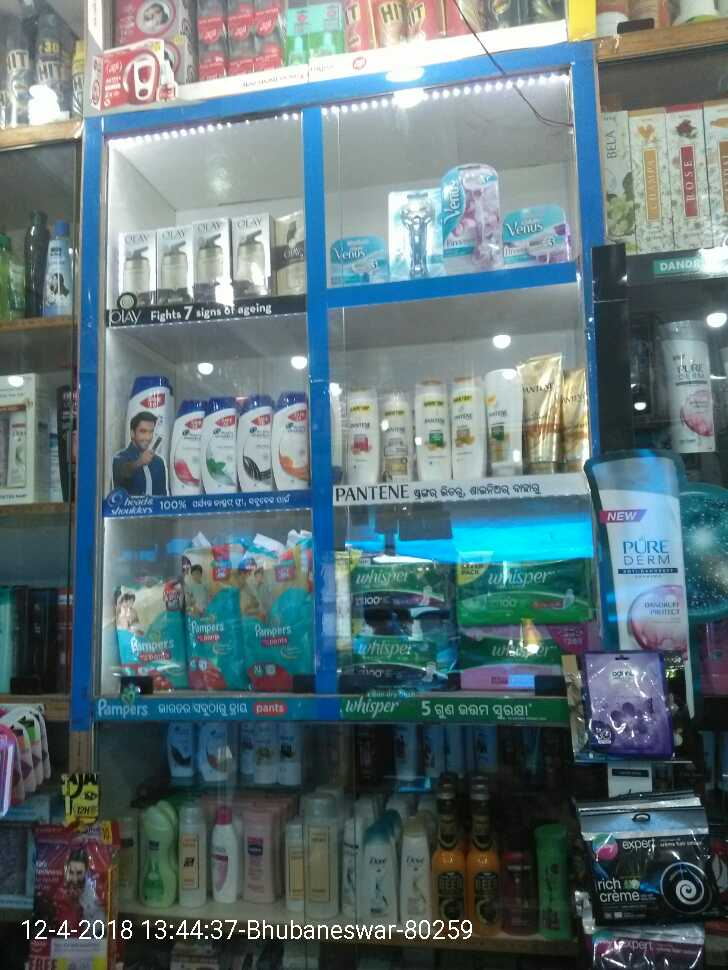venus: (443, 162, 499, 275), (389, 186, 441, 282), (503, 203, 570, 268), (330, 233, 386, 289)
